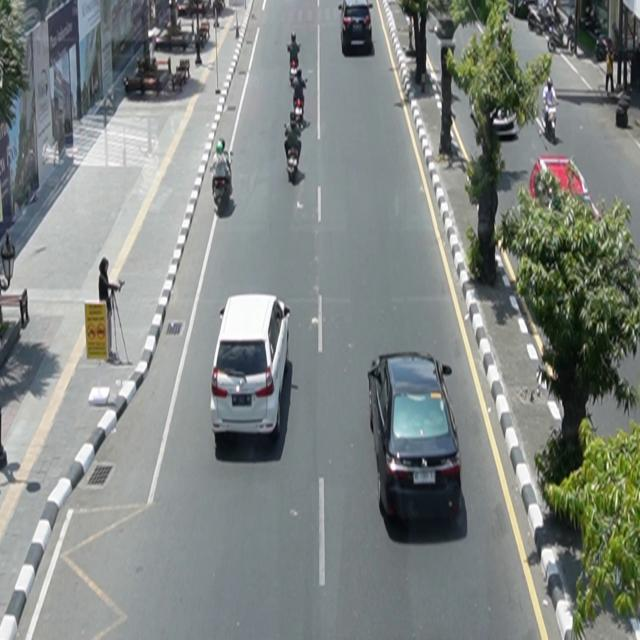car: (369, 352, 463, 526), (211, 293, 291, 446), (530, 156, 602, 224), (339, 1, 374, 56)
